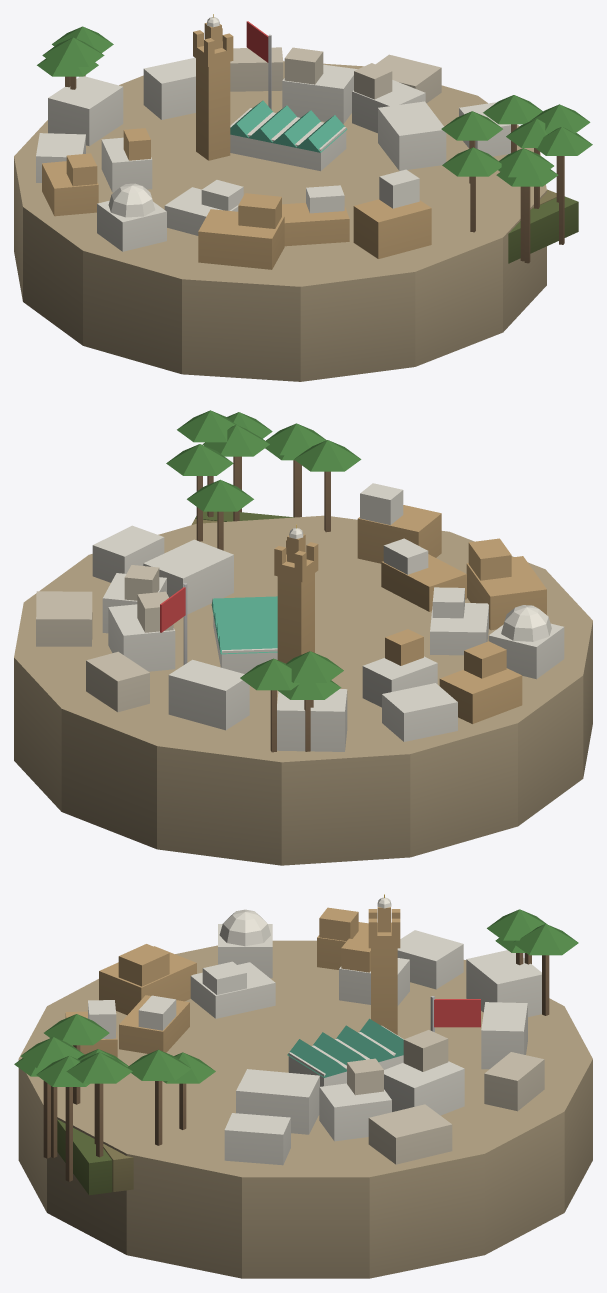
The model's file is village_isl_a.glb.
3 views of the same model, one above another, from view 1: azimuth 30°, elevation 25°; view 2: azimuth 150°, elevation 25°; view 3: azimuth 270°, elevation 25° (orthographic). The views are drawn at different scales.
Visible parts, largest first — view 1: village_isl_a; view 2: village_isl_a; view 3: village_isl_a.
Boxes of the visible parts, x1,y1,x2,y2 form: village_isl_a: (14,14,592,381); village_isl_a: (14,410,592,865); village_isl_a: (14,894,592,1278).
Bounding box in the file's own units: 1.85 × 0.9124 × 1.92.
